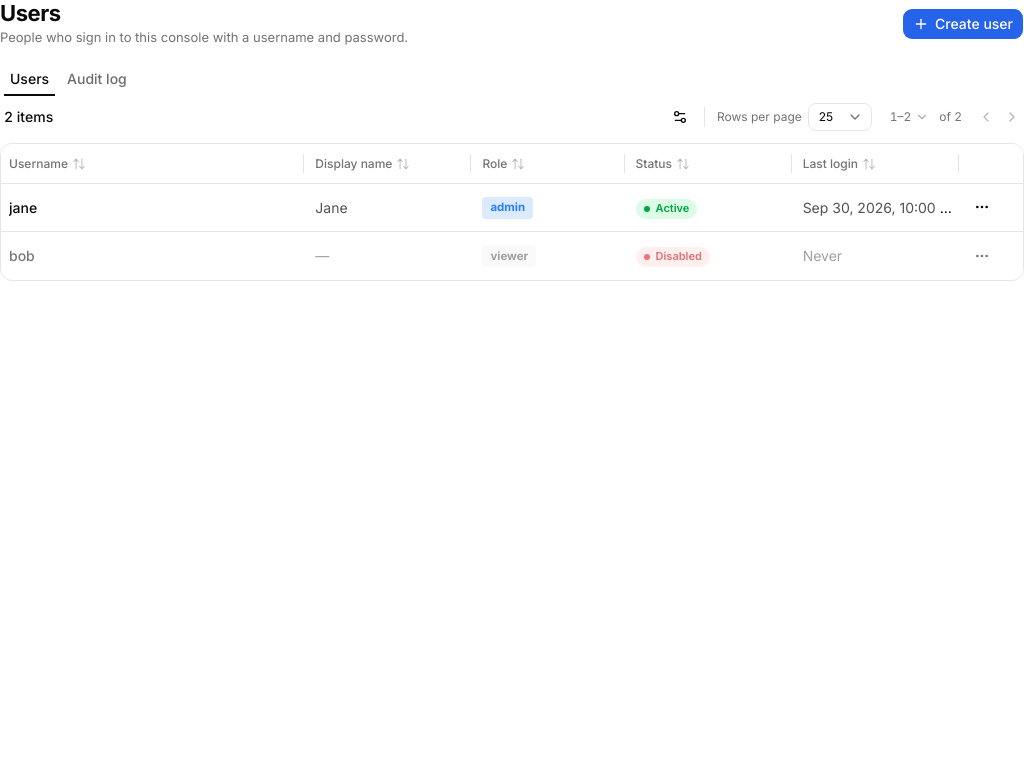
Test: UsersPage › explains a last-admin 409 inline
expect the text "jane" is shown: met, box [9, 198, 37, 216]
Click the button named "Actions for jane".
click(982, 207)  # box [970, 195, 994, 219]
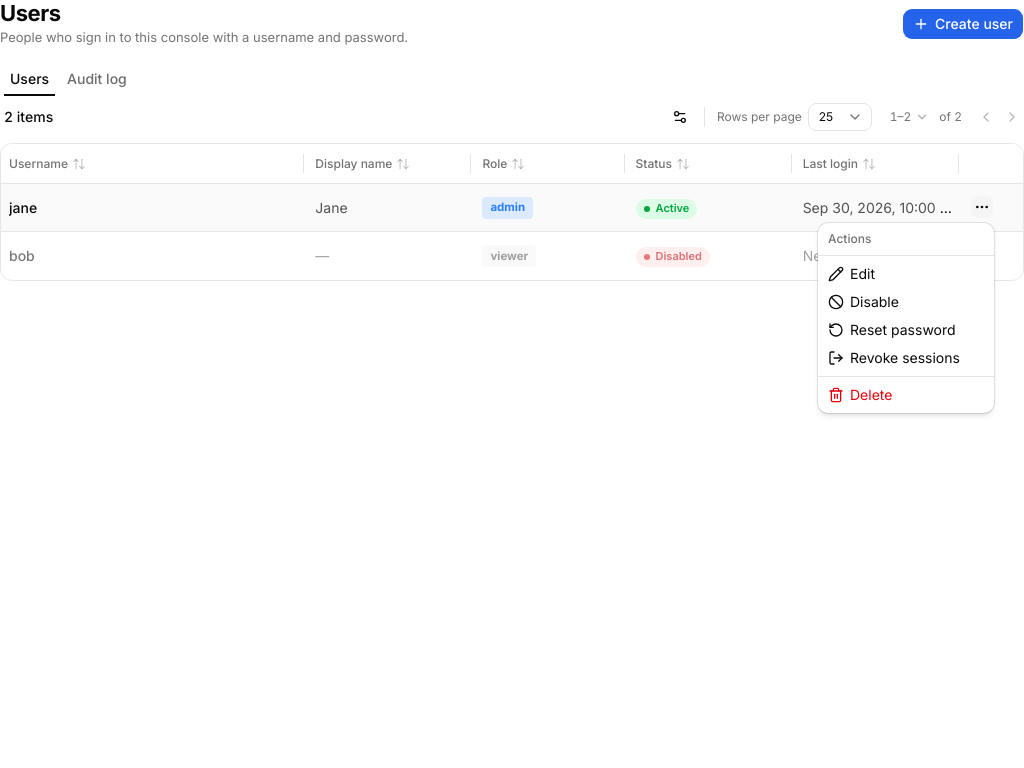
Click the menu item "Delete".
click(860, 394)  # box [828, 386, 892, 403]
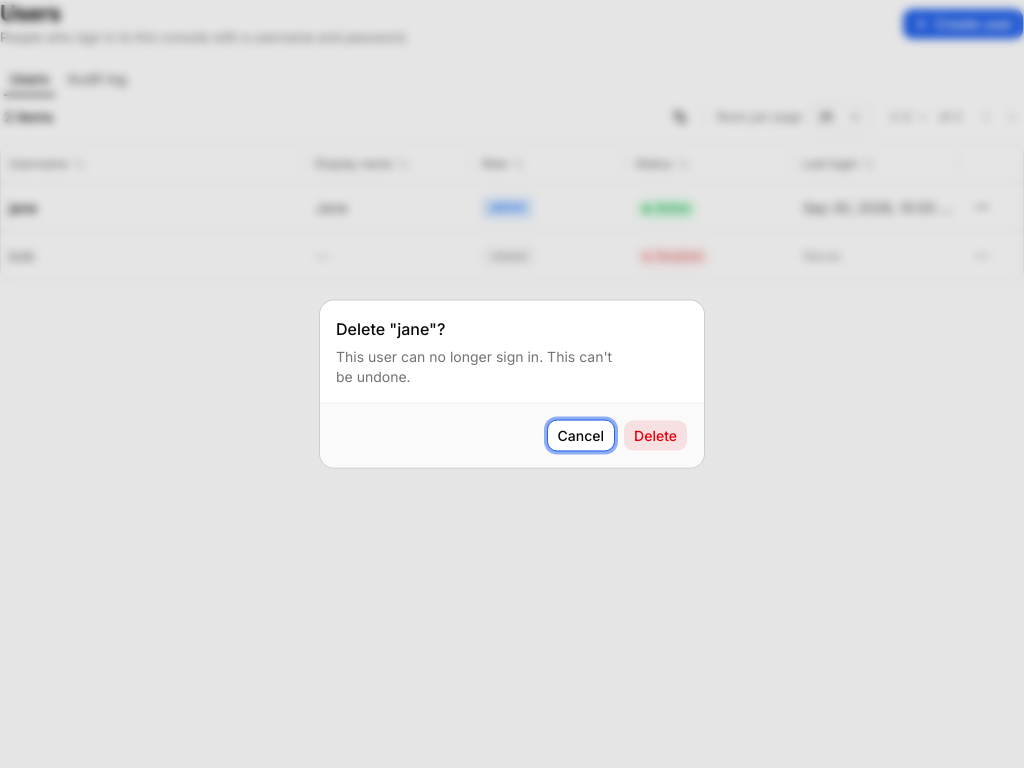
Click the button "Delete".
click(656, 436)  # box [623, 420, 688, 452]
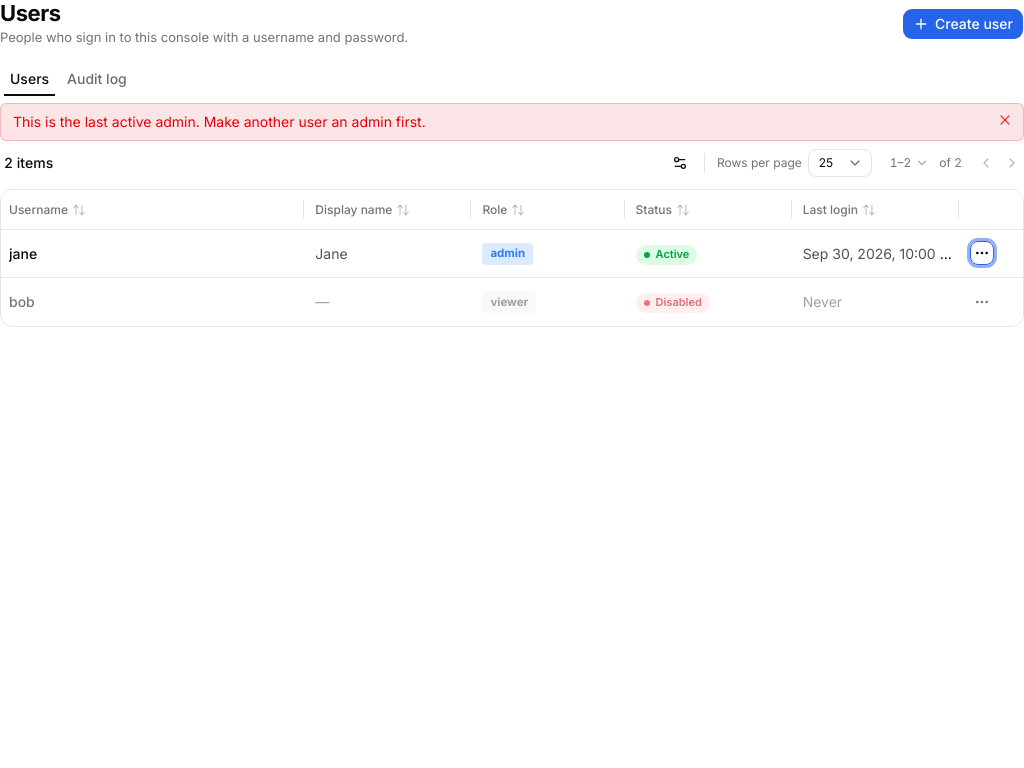
expect the message shows "last active admin": met, box [13, 113, 426, 130]
